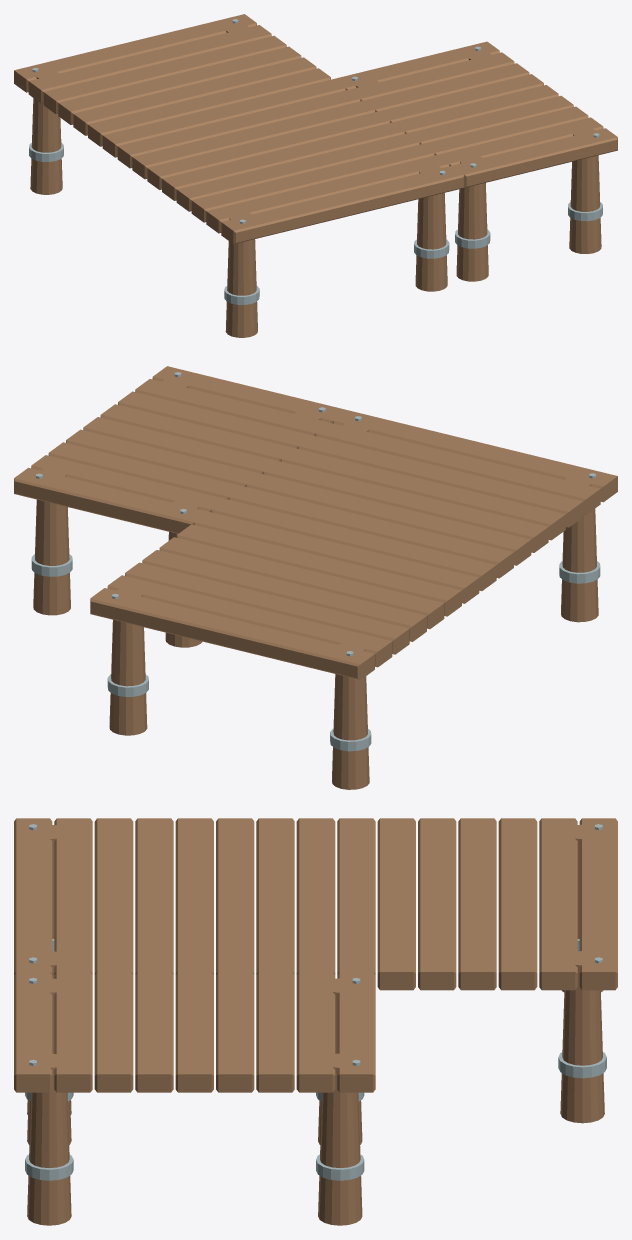
Rendered from harbor-and-tackle-pier-corner-e48224b5.glb.
3 renders of one model, top to bottom at view 1: azimuth 30°, elevation 25°; view 2: azimuth 150°, elevation 25°; view 3: azimuth 270°, elevation 25°, orthographic. The views are drawn at different scales.
Parts seen in each view (by area): view 1: cedar, metal; view 2: cedar, metal; view 3: cedar, metal.
Boxes of the visible parts, box(x1,y1,x2,y2) form: cedar: box(14, 14, 617, 337); metal: box(29, 19, 602, 304); cedar: box(14, 366, 617, 789); metal: box(31, 372, 600, 751); cedar: box(14, 818, 617, 1225); metal: box(25, 824, 606, 1180).
Bounding box in the file's own units: 3 × 0.864 × 2.99.
